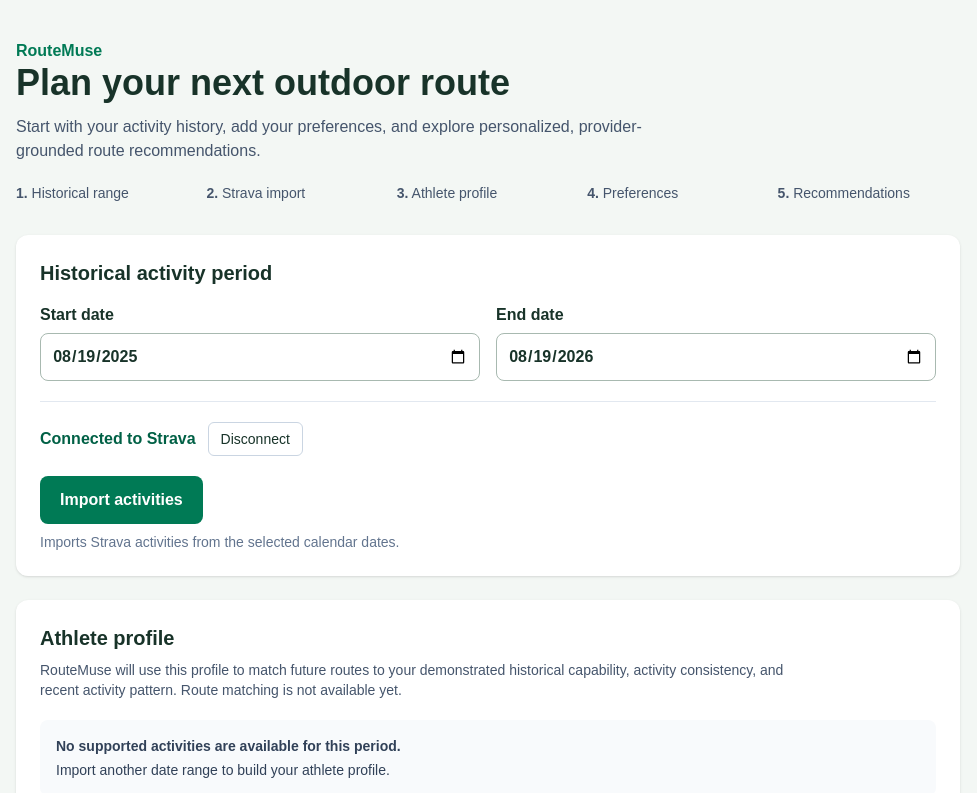
it: PlannerForm › does not let an older import refresh overwrite a newly selected period
Expected: the text "Connected to Strava" is shown, [40,427,196,451]
Click the button "Import activities": (121, 500) [40,476,203,524]
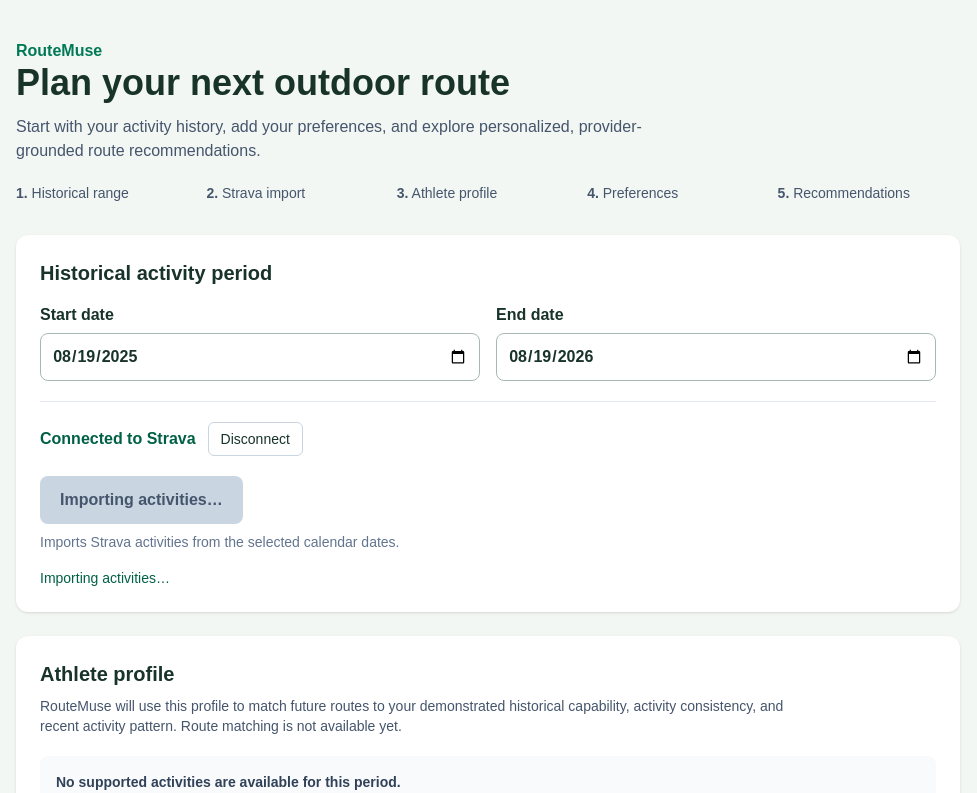
In the date field labelled "Start date": (260, 357) [40,333,480,381], type "2025-09-01"
(page scrolled)
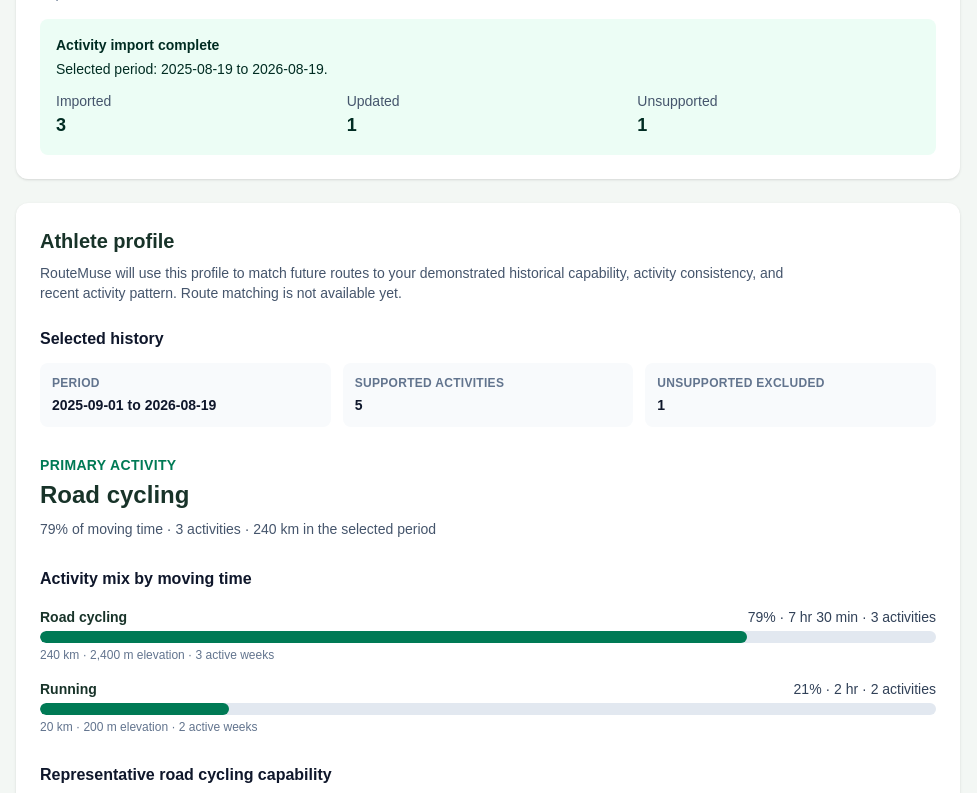
Result: the text "Road cycling" is shown 2 times at [40,481,189,508]; [40,607,127,627]
Result: the text "Activity import complete" is shown at [56,37,219,53]
Result: the text "2025-09-01 to 2026-08-19" is shown at [52,397,216,413]
